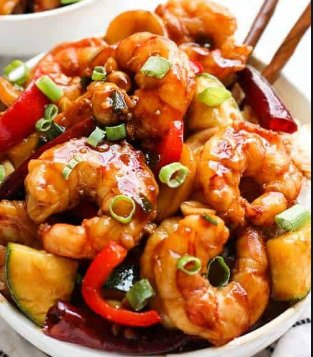sandwich: (0, 1, 308, 355)
